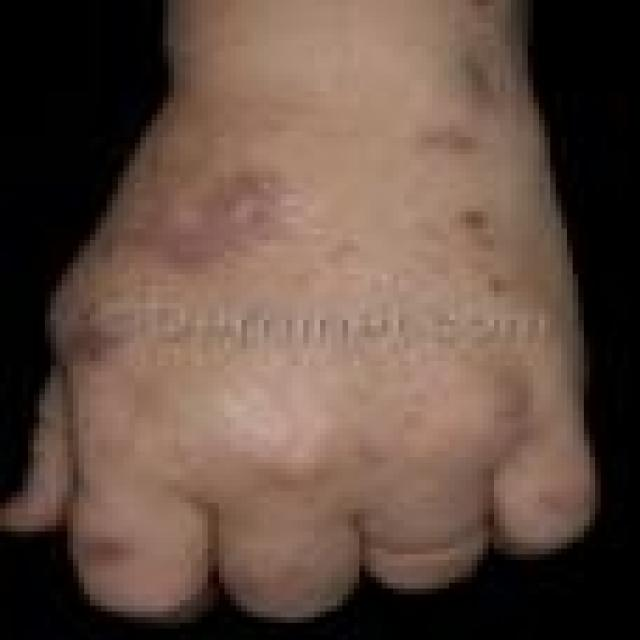Melasma: (125, 165, 326, 288)
